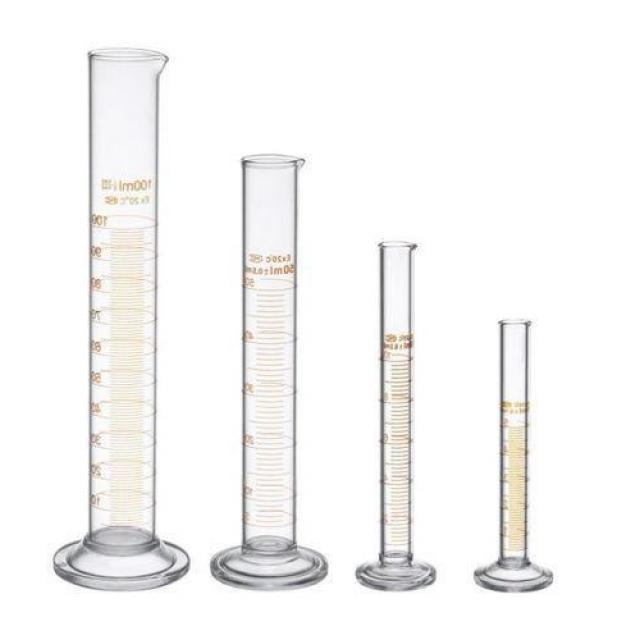glass: (53, 36, 186, 590), (213, 150, 331, 594), (348, 238, 438, 594), (473, 319, 559, 595)
